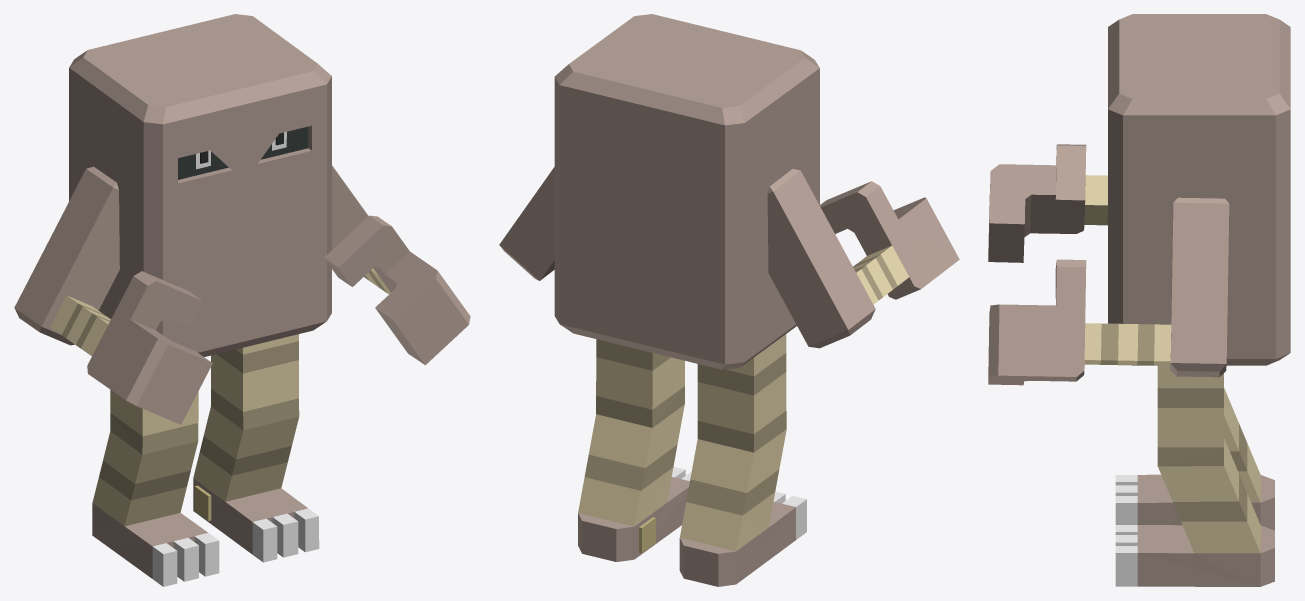
3 views of the same model, side by side, from view 1: azimuth 30°, elevation 25°; view 2: azimuth 150°, elevation 25°; view 3: azimuth 270°, elevation 25° (orthographic). The views are drawn at different scales.
Parts seen in each view (by area): view 1: 0106_hitmonlee; view 2: 0106_hitmonlee; view 3: 0106_hitmonlee.
Boxes of the visible parts, box(x1,y1,x2,y2) form: 0106_hitmonlee: box(14, 14, 470, 586); 0106_hitmonlee: box(499, 14, 959, 586); 0106_hitmonlee: box(988, 14, 1290, 586).
Size of the model in its own units: 1.93 by 2.54 by 1.42.
1 material, 1 textured.
